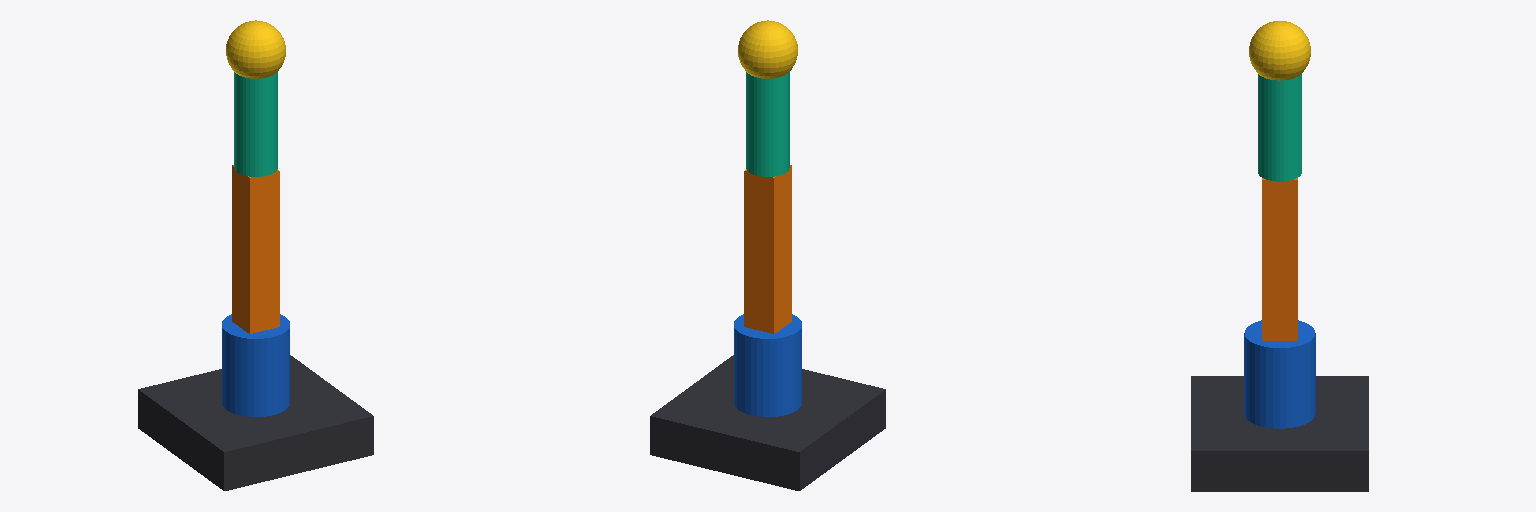
robot.urdf — primitive_bot:
<?xml version="1.0"?>
<robot name="primitive_bot">
  <!-- Base pedestal: Box geometry -->
  <link name="base_link">
    <visual>
      <origin xyz="0 0 0.05" rpy="0 0 0"/>
      <geometry>
        <box size="0.4 0.4 0.1"/>
      </geometry>
      <material name="dark_gray">
        <color rgba="0.25 0.25 0.28 1.0"/>
      </material>
    </visual>
  </link>

  <!-- Turret: Cylinder geometry rotated around Z -->
  <joint name="turret_joint" type="revolute">
    <parent link="base_link"/>
    <child link="turret_link"/>
    <origin xyz="0 0 0.1" rpy="0 0 0"/>
    <axis xyz="0 0 1"/>
    <limit lower="-3.14159" upper="3.14159" effort="10.0" velocity="2.0"/>
  </joint>
  <link name="turret_link">
    <visual>
      <origin xyz="0 0 0.1" rpy="0 0 0"/>
      <geometry>
        <cylinder radius="0.08" length="0.2"/>
      </geometry>
      <material name="primary_blue">
        <color rgba="0.15 0.45 0.85 1.0"/>
      </material>
    </visual>
  </link>

  <!-- Shoulder Joint & Upper Arm: Box geometry -->
  <joint name="shoulder_joint" type="revolute">
    <parent link="turret_link"/>
    <child link="upper_arm_link"/>
    <origin xyz="0 0 0.2" rpy="0 0 0"/>
    <axis xyz="0 1 0"/>
    <limit lower="-2.0" upper="2.0" effort="10.0" velocity="2.0"/>
  </joint>
  <link name="upper_arm_link">
    <visual>
      <origin xyz="0 0 0.2" rpy="0 0 0"/>
      <geometry>
        <box size="0.08 0.08 0.4"/>
      </geometry>
      <material name="accent_orange">
        <color rgba="0.95 0.5 0.1 1.0"/>
      </material>
    </visual>
  </link>

  <!-- Elbow Joint & Forearm: Cylinder & Sphere -->
  <joint name="elbow_joint" type="revolute">
    <parent link="upper_arm_link"/>
    <child link="forearm_link"/>
    <origin xyz="0 0 0.4" rpy="0 0 0"/>
    <axis xyz="0 1 0"/>
    <limit lower="-2.5" upper="2.5" effort="10.0" velocity="2.0"/>
  </joint>
  <link name="forearm_link">
    <visual>
      <origin xyz="0 0 0.15" rpy="0 0 0"/>
      <geometry>
        <cylinder radius="0.05" length="0.3"/>
      </geometry>
      <material name="teal_green">
        <color rgba="0.1 0.75 0.6 1.0"/>
      </material>
    </visual>
  </link>

  <!-- End Effector: Sphere geometry -->
  <joint name="ee_joint" type="fixed">
    <parent link="forearm_link"/>
    <child link="ee_link"/>
    <origin xyz="0 0 0.3" rpy="0 0 0"/>
  </joint>
  <link name="ee_link">
    <visual>
      <origin xyz="0 0 0" rpy="0 0 0"/>
      <geometry>
        <sphere radius="0.07"/>
      </geometry>
      <material name="bright_gold">
        <color rgba="0.98 0.8 0.15 1.0"/>
      </material>
    </visual>
  </link>
</robot>

--- What the picture shows (computed from the rendered views, not written in the file) ---
3 views of the same robot in one strip: view 1: azimuth 30°, elevation 25°; view 2: azimuth 150°, elevation 25°; view 3: azimuth 270°, elevation 25° (orthographic).
Model primitive_bot with 5 links and 4 joints (3 revolute, 1 fixed), rooted at base_link, posed all joints at 0.
Links seen in each view (by area): view 1: base_link, upper_arm_link, turret_link, forearm_link, ee_link; view 2: base_link, upper_arm_link, turret_link, forearm_link, ee_link; view 3: base_link, turret_link, upper_arm_link, forearm_link, ee_link.
Link boxes in pixels (left/top/right/bottom): base_link: left=138, top=355, right=373, bottom=490; upper_arm_link: left=232, top=165, right=279, bottom=333; turret_link: left=222, top=314, right=289, bottom=416; forearm_link: left=234, top=72, right=277, bottom=176; ee_link: left=226, top=20, right=285, bottom=78; base_link: left=650, top=355, right=885, bottom=490; upper_arm_link: left=744, top=165, right=791, bottom=333; turret_link: left=734, top=314, right=801, bottom=416; forearm_link: left=746, top=72, right=789, bottom=176; ee_link: left=738, top=20, right=797, bottom=78; base_link: left=1191, top=376, right=1368, bottom=491; turret_link: left=1244, top=320, right=1315, bottom=428; upper_arm_link: left=1262, top=178, right=1297, bottom=340; forearm_link: left=1258, top=74, right=1301, bottom=181; ee_link: left=1249, top=21, right=1310, bottom=80.
Bounding box of the posed robot: 0.4 × 0.4 × 1.07 m (x, y, z).
Geometry: primitives only (box / cylinder / sphere), no mesh files.
